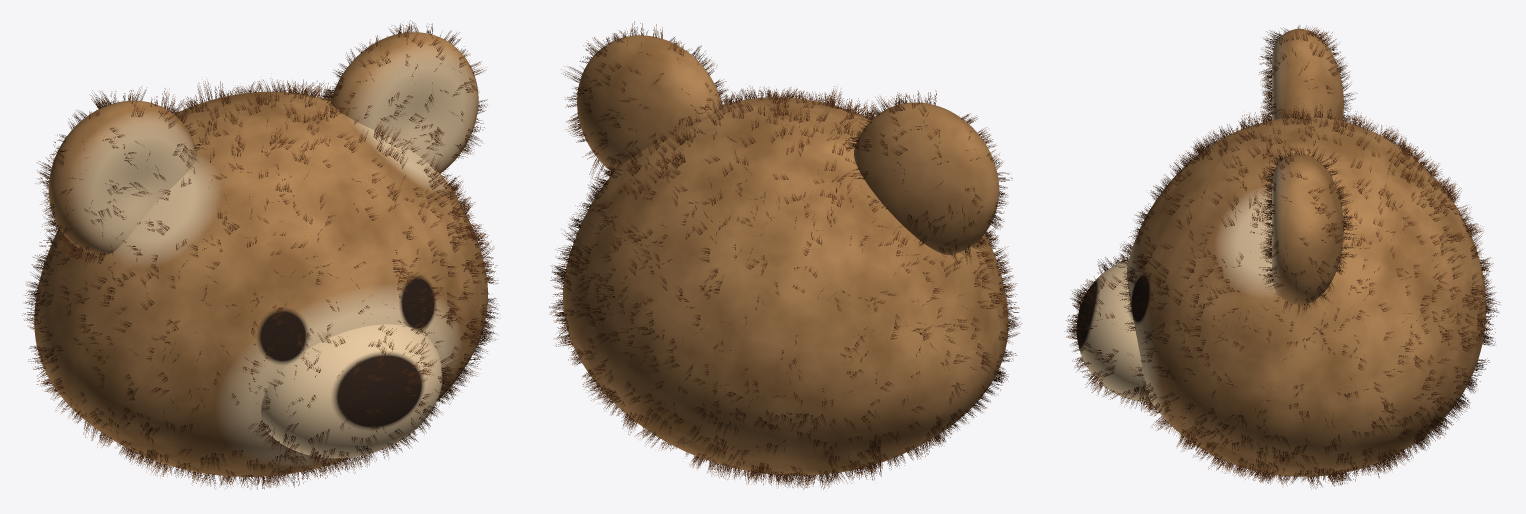
File: TeddyBear_Head.fbx
3 views of the same model, side by side, from view 1: azimuth 30°, elevation 25°; view 2: azimuth 150°, elevation 25°; view 3: azimuth 270°, elevation 25° (orthographic). The views are drawn at different scales.
Parts seen in each view (by area): view 1: Head, Head_Fur; view 2: Head, Head_Fur; view 3: Head, Head_Fur.
Part boxes in pixels (left/top/right/bottom): Head: left=34, top=32, right=487, bottom=476; Head_Fur: left=22, top=20, right=500, bottom=489; Head: left=563, top=35, right=1008, bottom=475; Head_Fur: left=549, top=21, right=1022, bottom=489; Head: left=1076, top=28, right=1486, bottom=476; Head_Fur: left=1064, top=25, right=1499, bottom=489.
Bounding box in the file's own units: 0.5393 × 0.48 × 0.506.
2 materials, 2 textured.
